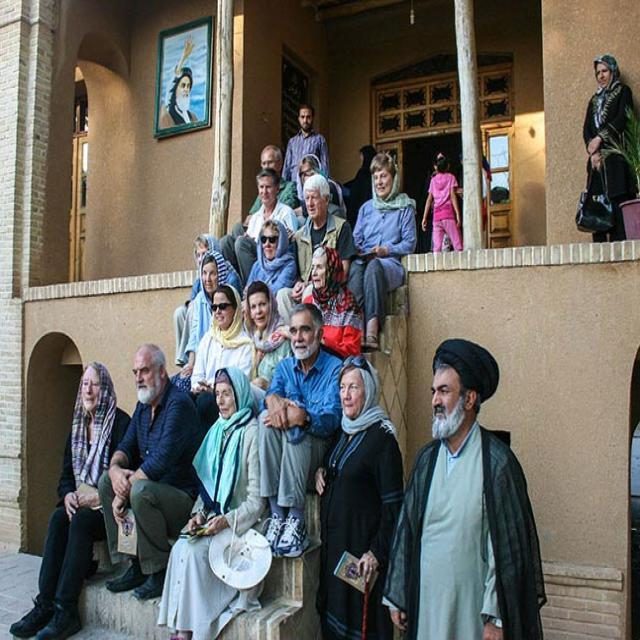body: (380, 336, 549, 640), (9, 359, 136, 639), (156, 364, 270, 640), (95, 340, 207, 600), (311, 354, 407, 640), (252, 295, 348, 562), (344, 150, 420, 348), (573, 53, 639, 243), (216, 143, 300, 275), (170, 232, 241, 369), (288, 172, 355, 303), (234, 166, 299, 288), (189, 282, 256, 395), (300, 243, 362, 360), (180, 248, 234, 380), (241, 279, 293, 392), (155, 31, 202, 130), (420, 151, 464, 253), (245, 218, 298, 300), (279, 101, 332, 182), (292, 153, 349, 226), (339, 142, 378, 236), (480, 149, 492, 250)
